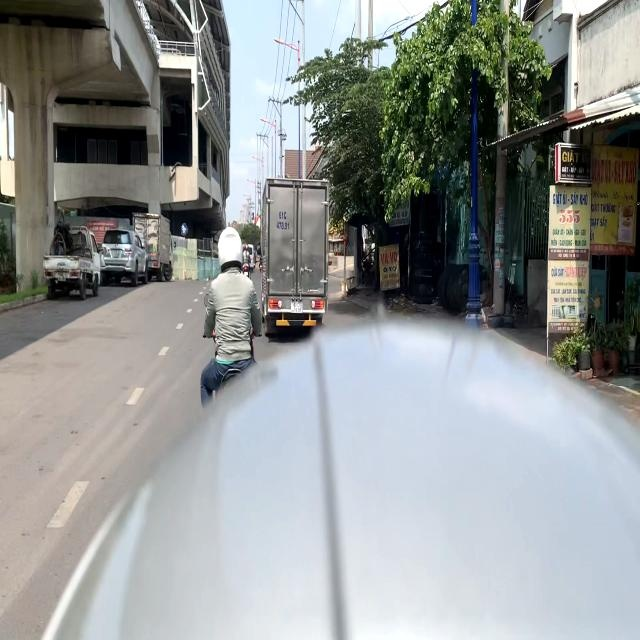bien_hieu_lenh: (181, 222, 188, 236)
